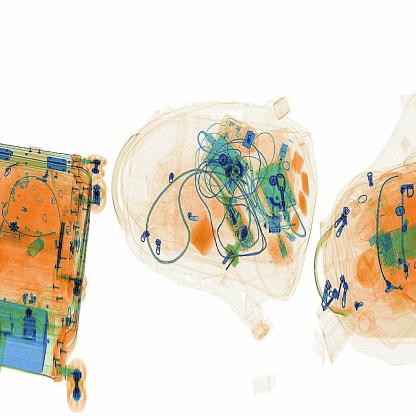gun: (53, 204, 72, 284)
